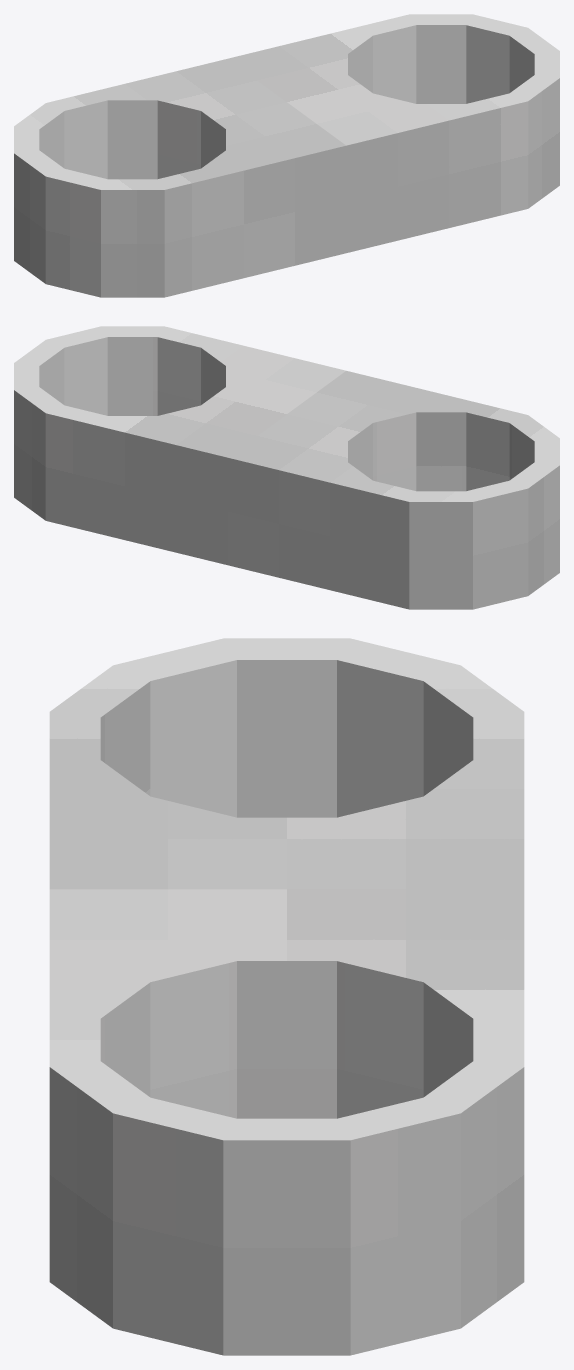
Rendered from bracket2x.obj.
3 renders of one model, top to bottom at view 1: azimuth 30°, elevation 25°; view 2: azimuth 150°, elevation 25°; view 3: azimuth 270°, elevation 25°, orthographic. The views are drawn at different scales.
Parts seen in each view (by area): view 1: tube; view 2: tube; view 3: tube.
Part boxes in pixels (box(x1,y1,x2,y2)): tube: box(14, 14, 559, 297); tube: box(14, 326, 559, 609); tube: box(49, 638, 524, 1355).
Size of the model in its own units: 0.625 by 0.125 by 0.25.
1 material, 1 textured.
